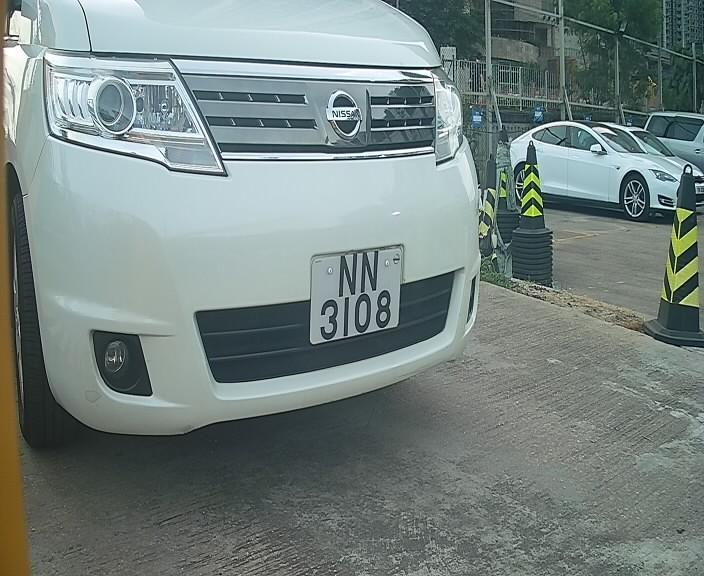License Plate: (309, 227, 403, 358)
